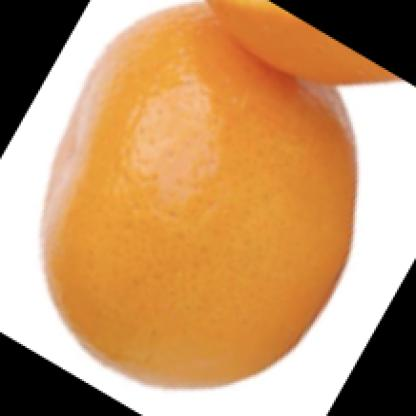fresh: (38, 5, 334, 355)
